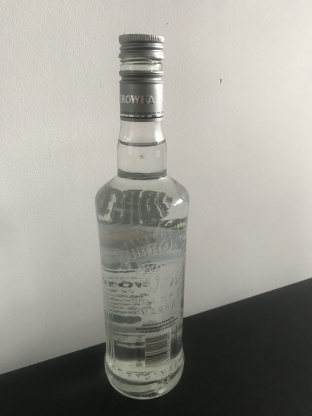nakretka: (117, 31, 165, 122)
